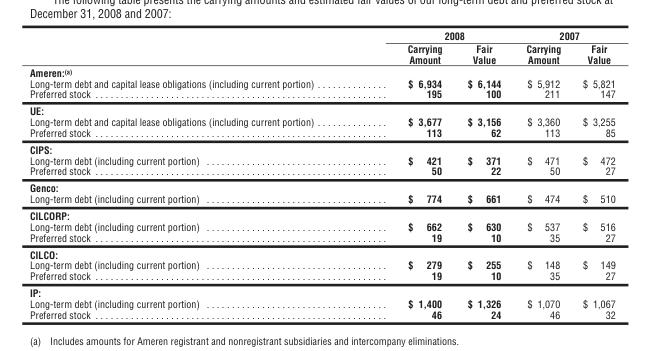table: (28, 28, 614, 320)
table column: (28, 28, 360, 320), (360, 28, 454, 320), (512, 28, 571, 320), (454, 28, 512, 320), (571, 28, 614, 320)
table column header: (28, 28, 614, 65)
table projected row header: (28, 140, 614, 154), (28, 206, 614, 220), (28, 245, 614, 259), (28, 283, 614, 297), (28, 102, 614, 115), (28, 179, 614, 192), (28, 65, 614, 77)
table row: (28, 41, 614, 65), (28, 88, 614, 102), (28, 126, 614, 140), (28, 140, 614, 154), (28, 165, 614, 179), (28, 192, 614, 206), (28, 206, 614, 220), (28, 231, 614, 245), (28, 245, 614, 259), (28, 269, 614, 283), (28, 283, 614, 297), (28, 28, 614, 41), (28, 102, 614, 115), (28, 179, 614, 192), (28, 65, 614, 77), (28, 308, 614, 320), (28, 77, 614, 88), (28, 115, 614, 126), (28, 154, 614, 165), (28, 220, 614, 231), (28, 297, 614, 308), (28, 259, 614, 269)
table spanning cell: (360, 28, 512, 41), (512, 28, 614, 41)
